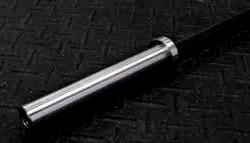Barbell: (10, 95, 40, 134)
